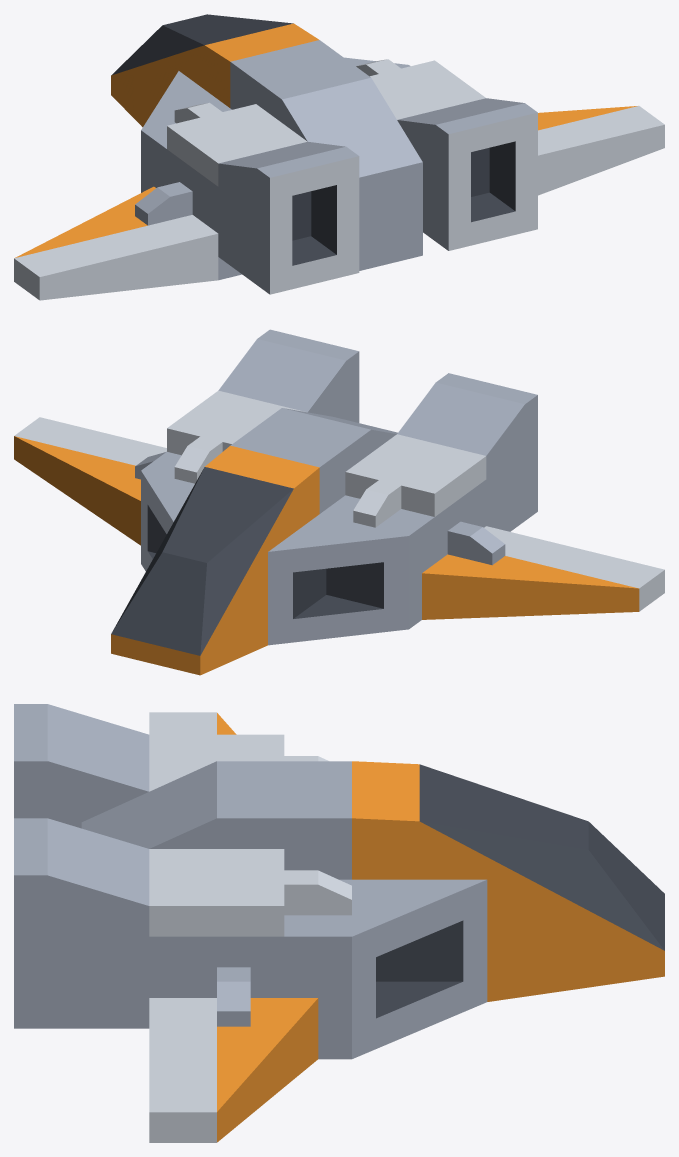
File: k-craft-speeder-c.glb
3 renders of one model, top to bottom at view 1: azimuth 30°, elevation 25°; view 2: azimuth 150°, elevation 25°; view 3: azimuth 270°, elevation 25°, orthographic. The views are drawn at different scales.
Parts seen in each view (by area): view 1: craft_speederC; view 2: craft_speederC; view 3: craft_speederC.
Part boxes in pixels (<box>): craft_speederC: <box>14,14,664,300</box>; craft_speederC: <box>14,329,664,675</box>; craft_speederC: <box>14,704,664,1142</box>.
Size of the model in its own units: 2.8 by 0.6 by 1.93.
